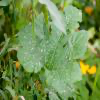Squash Powdery mildew leaf: (43, 62, 84, 88), (17, 45, 45, 73), (31, 10, 50, 49), (68, 27, 90, 59), (50, 19, 69, 47), (63, 6, 83, 31)
